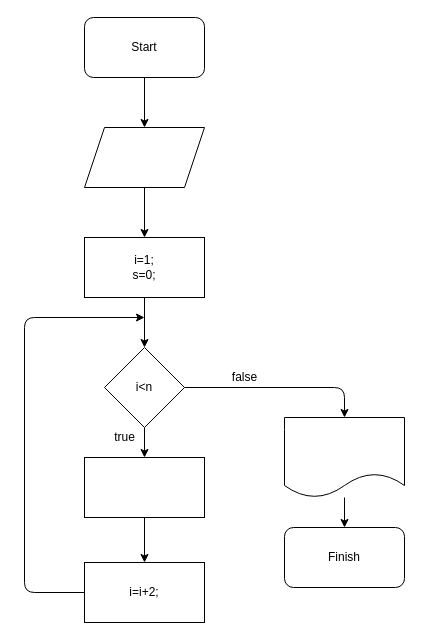
This 422x640 diagram has some shape labels left out. The shapes that lost their labels are listed below. From the top down, each one's centre as x and y in pixels, then its label:
point (144, 157): n; a[];
point (344, 457): s;
point (144, 487): s=s+a[ i ];
